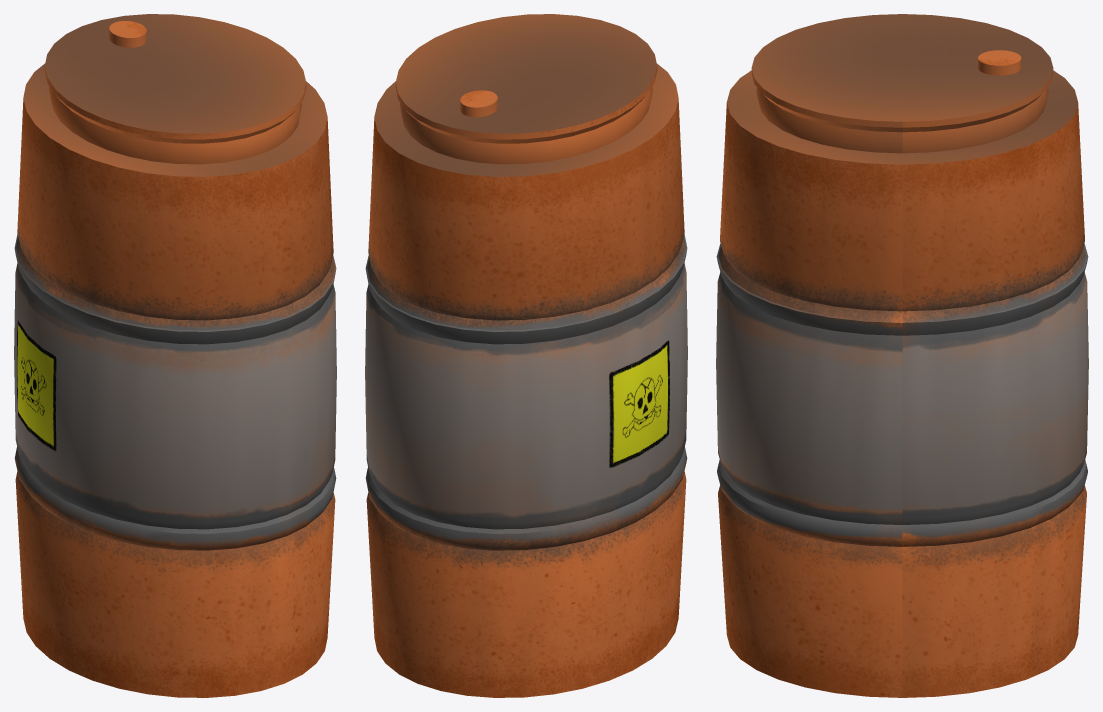
File: SM_Barril2.fbx
3 views of the same model, side by side, from view 1: azimuth 30°, elevation 25°; view 2: azimuth 150°, elevation 25°; view 3: azimuth 270°, elevation 25° (orthographic). The views are drawn at different scales.
Parts seen in each view (by area): view 1: SM_BarrilRadioactivo2; view 2: SM_BarrilRadioactivo2; view 3: SM_BarrilRadioactivo2.
Boxes of the visible parts, box(x1,y1,x2,y2) form: SM_BarrilRadioactivo2: box(14, 14, 336, 697); SM_BarrilRadioactivo2: box(365, 14, 687, 697); SM_BarrilRadioactivo2: box(716, 14, 1088, 697).
Size of the model in its own units: 212 by 429 by 251.
